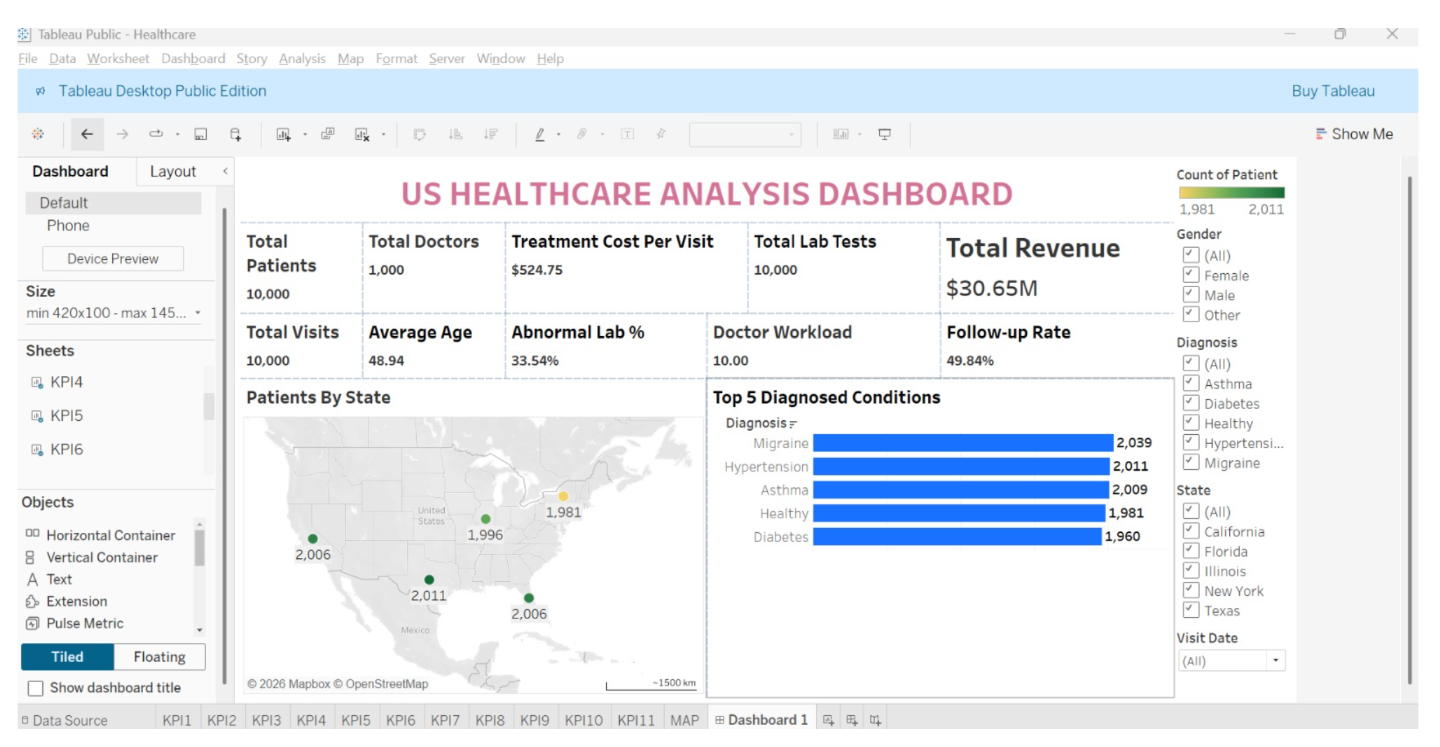

The dashboard page shown, as its layout file describes it:
{"tool":"tableau","page":{"name":"Dashboard 1","canvas":[1000,1000],"units":"permille","ordinal":0},"visuals":[{"type":"text","box":[5.5,10.7,883.4,111.1]},{"type":"legend","title":"MAP","param":"[federated.1ikifzs1liogo21338sql1d696tb].[__tableau_internal_object_id__].[cnt:P","box":[889,10.7,105.5,108.4]},{"type":"filter","title":"KPI1","param":"[federated.1ikifzs1liogo21338sql1d696tb].[none:Gender:nk]","box":[889,119.1,105.5,196.3]},{"type":"worksheet","title":"KPI1","mark":"Automatic","box":[5.5,121.8,144.9,166]},{"type":"worksheet","title":"KPI2","mark":"Automatic","box":[150.4,121.8,147.7,166]},{"type":"worksheet","title":"KPI7","mark":"Automatic","box":[298.1,121.8,204.6,166]},{"type":"worksheet","title":"KPI8","mark":"Automatic","box":[502.7,121.8,165.4,166]},{"type":"worksheet","title":"KPI11","mark":"Text","box":[668.1,121.8,220.9,166]},{"type":"worksheet","title":"KPI3","mark":"Automatic","box":[5.5,287.8,144.9,119.1]},{"type":"worksheet","title":"KPI4","mark":"Automatic","box":[150.4,287.8,147.7,119.1]},{"type":"worksheet","title":"KPI9","mark":"Automatic","box":[298.1,287.8,204.6,119.1]},{"type":"worksheet","title":"KPI10","mark":"Automatic","box":[502.7,287.8,165.4,119.1]},{"type":"worksheet","title":"KPI6","mark":"Automatic","box":[668.1,287.8,220.9,119.1]},{"type":"filter","title":"KPI1","param":"[federated.1ikifzs1liogo21338sql1d696tb].[none:Diagnosis:nk]","box":[889,315.5,105.5,196.3]},{"type":"worksheet","title":"MAP","mark":"Circle","box":[5.5,406.9,441.7,582.3]},{"type":"worksheet","title":"KPI5","mark":"Bar","rows":["Diagnosis"],"cols":["Visit_A0C1A3FACFD44D14B533A1258C208FB1"],"box":[447.2,406.9,441.7,342.7]},{"type":"filter","title":"KPI1","param":"[federated.1ikifzs1liogo21338sql1d696tb].[none:State:nk]","box":[889,511.8,105.5,196.3]},{"type":"filter","title":"KPI1","param":"[federated.1ikifzs1liogo21338sql1d696tb].[none:Visit Date:nk]","box":[889,708.2,105.5,93.7]},{"type":"worksheet","title":"KPI13","mark":"Automatic","box":[447.2,749.7,441.7,119.8]},{"type":"filter","title":"KPI1","param":"[federated.1ikifzs1liogo21338sql1d696tb].[none:Doctor Name:nk]","box":[889,801.9,105.5,93.7]},{"type":"worksheet","title":"KPI 14","mark":"Text","box":[447.2,869.5,441.7,119.8]},{"type":"filter","title":"KPI 14","param":"[federated.1ikifzs1liogo21338sql1d696tb].[none:Patient ID (Patient):ok]","box":[889,895.6,105.5,93.7]}]}

Visuals, with their boxes on the dashboard's canvas, which has no fixed pixel size, in thousandths of its width and height (x1, y1, x2, y2). These are canvas units, not pixel positions in the 1440x747 screenshot, which may show the page scaled, cropped or inside an application window:
text: 6 11 889 122
"MAP" legend: 889 11 994 119
"KPI1" filter: 889 119 994 315
"KPI1" worksheet: 6 122 150 288
"KPI2" worksheet: 150 122 298 288
"KPI7" worksheet: 298 122 503 288
"KPI8" worksheet: 503 122 668 288
"KPI11" worksheet (Text marks): 668 122 889 288
"KPI3" worksheet: 6 288 150 407
"KPI4" worksheet: 150 288 298 407
"KPI9" worksheet: 298 288 503 407
"KPI10" worksheet: 503 288 668 407
"KPI6" worksheet: 668 288 889 407
"KPI1" filter: 889 316 994 512
"MAP" worksheet (Circle marks): 6 407 447 989
"KPI5" worksheet (Bar marks): 447 407 889 750
"KPI1" filter: 889 512 994 708
"KPI1" filter: 889 708 994 802
"KPI13" worksheet: 447 750 889 870
"KPI1" filter: 889 802 994 896
"KPI 14" worksheet (Text marks): 447 870 889 989
"KPI 14" filter: 889 896 994 989
